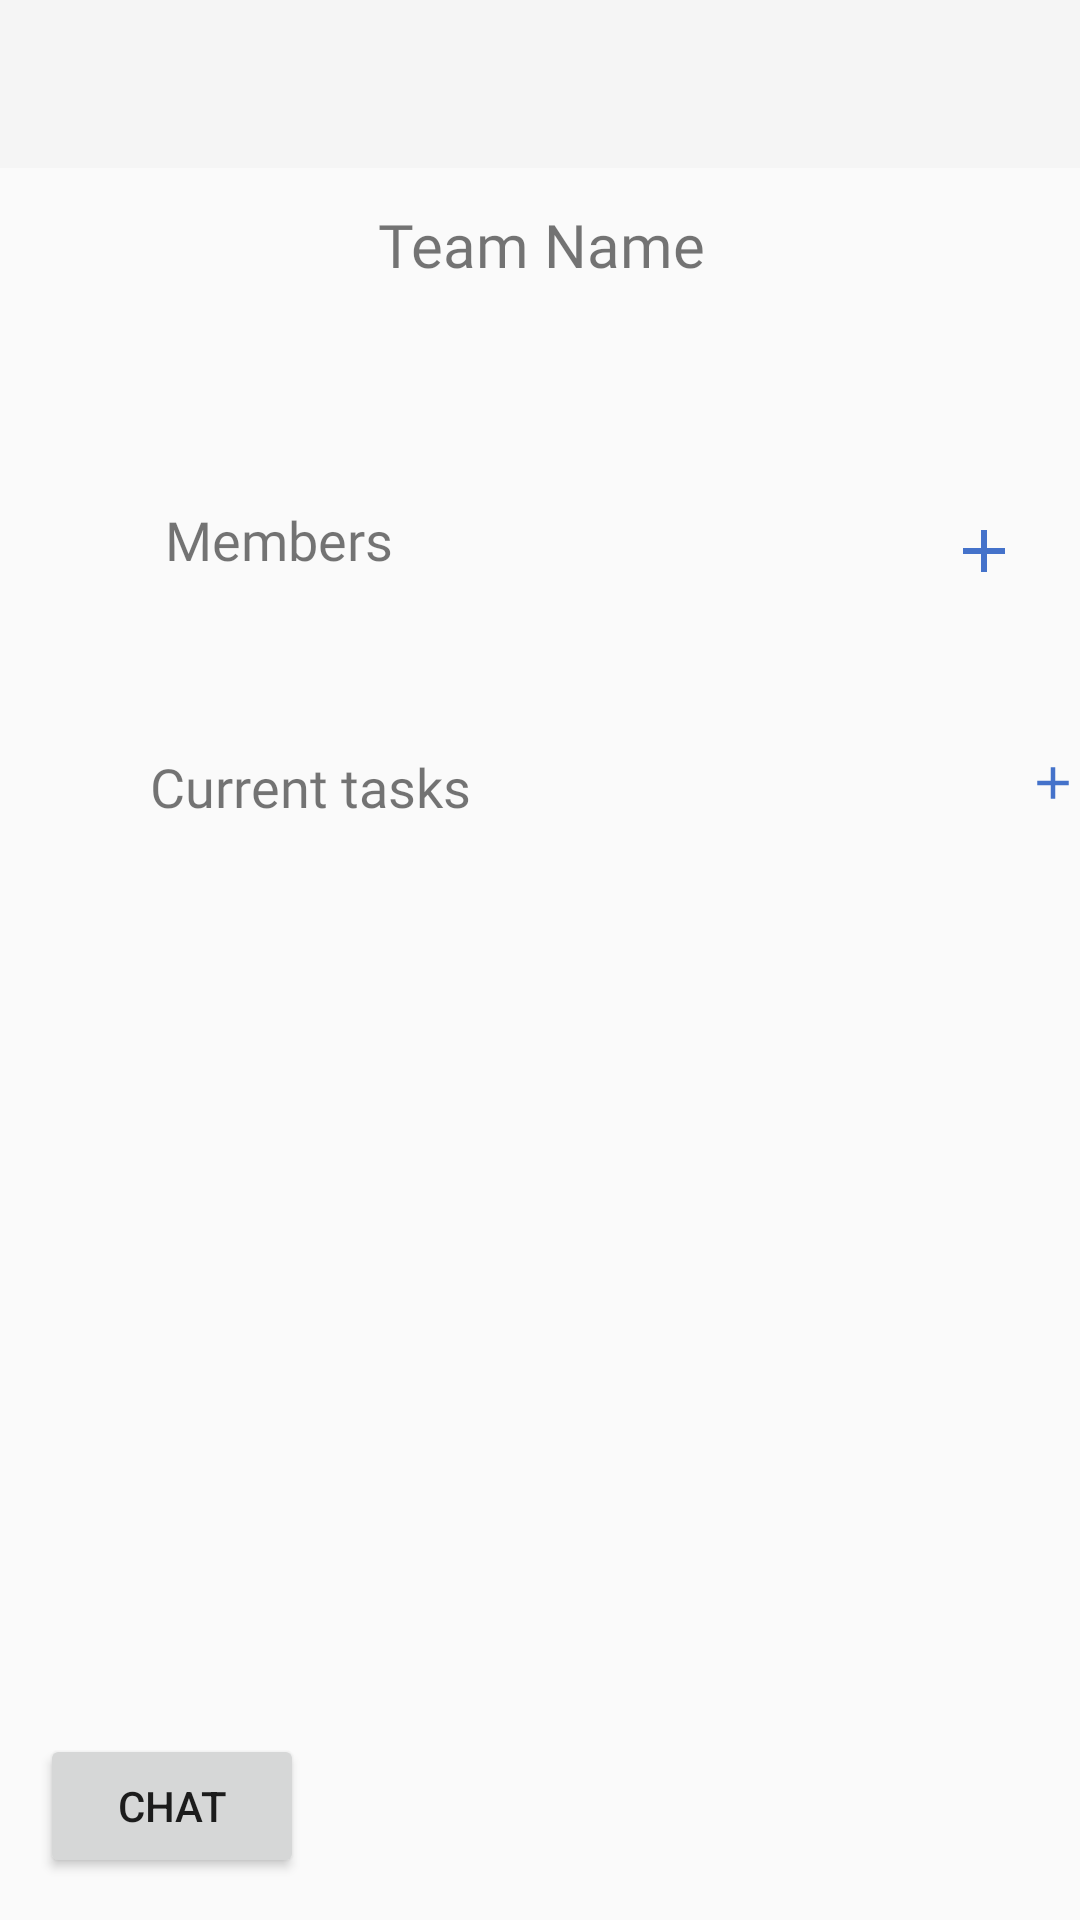

Named icons in this screenshot (1080×1920) and their bounding boxes, bbox(x1, y1, x2, y2):
add: bbox(963, 530, 1005, 572), bbox(1037, 767, 1069, 799)
